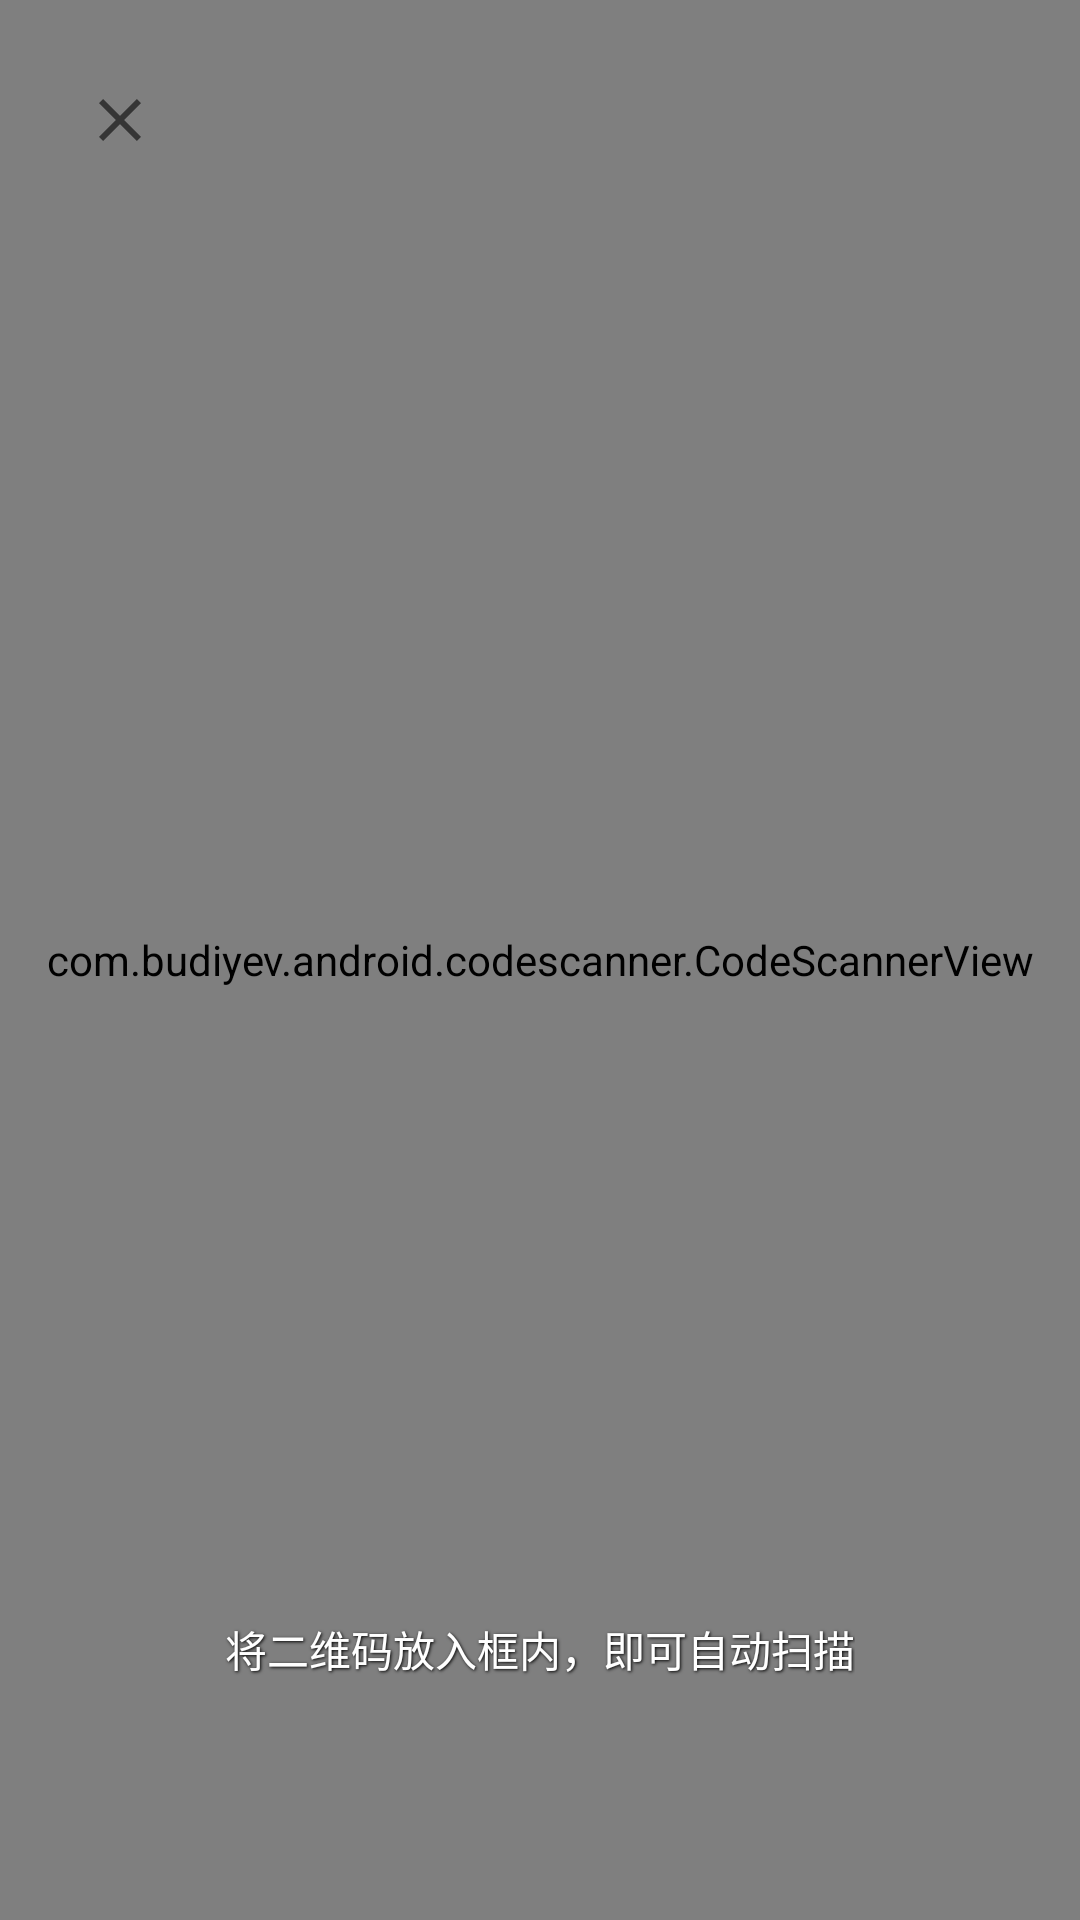

Icons on this 1080 x 1920 Android screen, each with its box as (x1, y1, x2, y2):
关闭: (99, 99, 141, 141)
